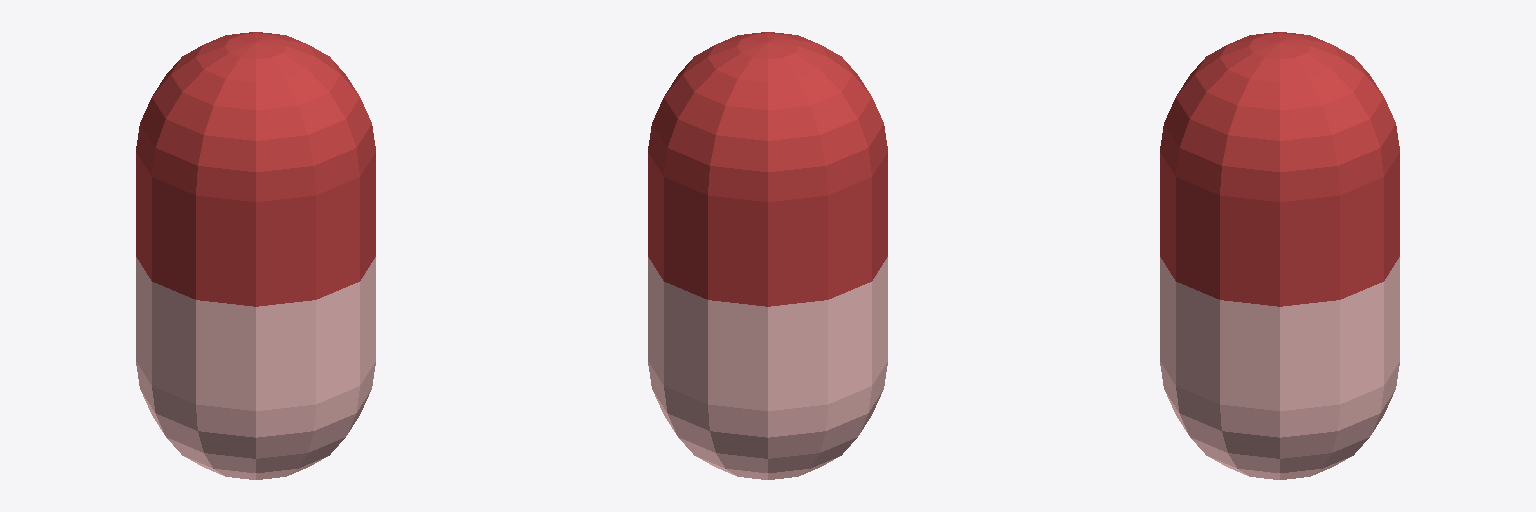
The model's file is pill.obj.
3 renders of one model, left to right at view 1: azimuth 30°, elevation 25°; view 2: azimuth 150°, elevation 25°; view 3: azimuth 270°, elevation 25°, orthographic.
Parts seen in each view (by area): view 1: Mesh1 capsule Model; view 2: Mesh1 capsule Model; view 3: Mesh1 capsule Model.
Part boxes in pixels (x1,y1,x2,y2): Mesh1 capsule Model: (136, 32, 375, 479); Mesh1 capsule Model: (648, 32, 887, 479); Mesh1 capsule Model: (1160, 32, 1399, 479).
Bounding box in the file's own units: 5.57 × 10.92 × 5.57.